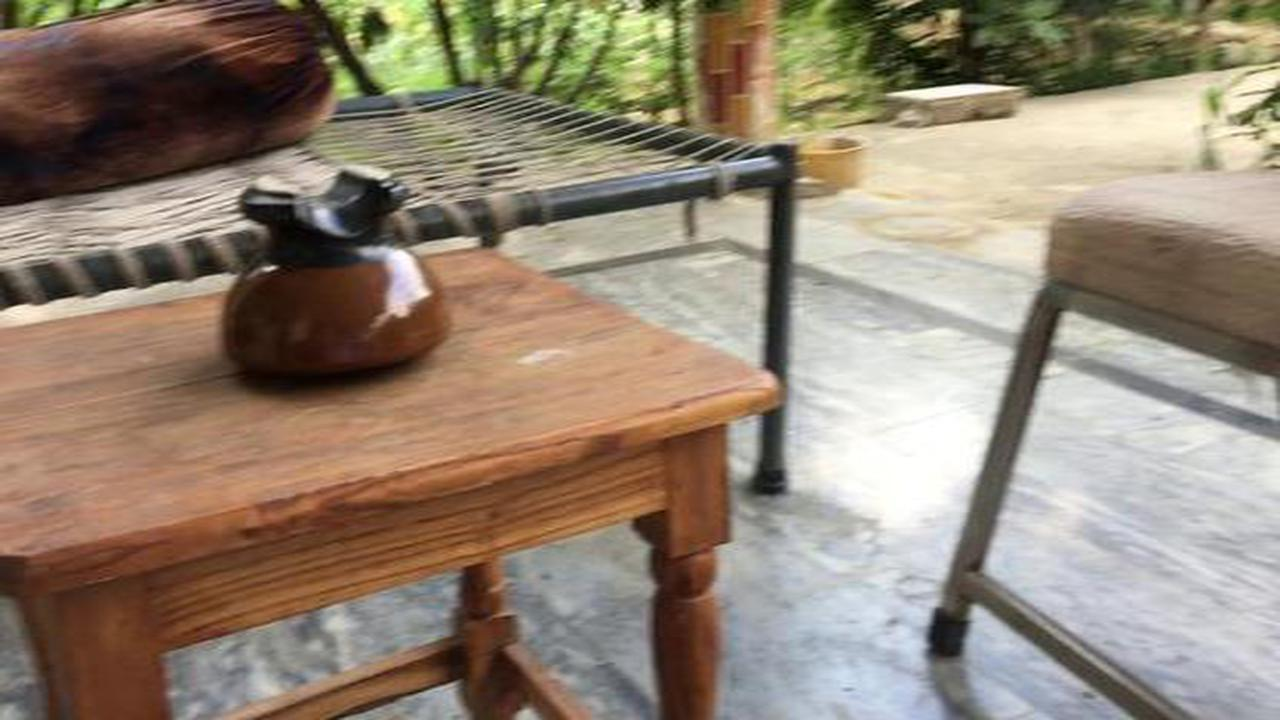insulator_pin: (197, 156, 468, 395)
